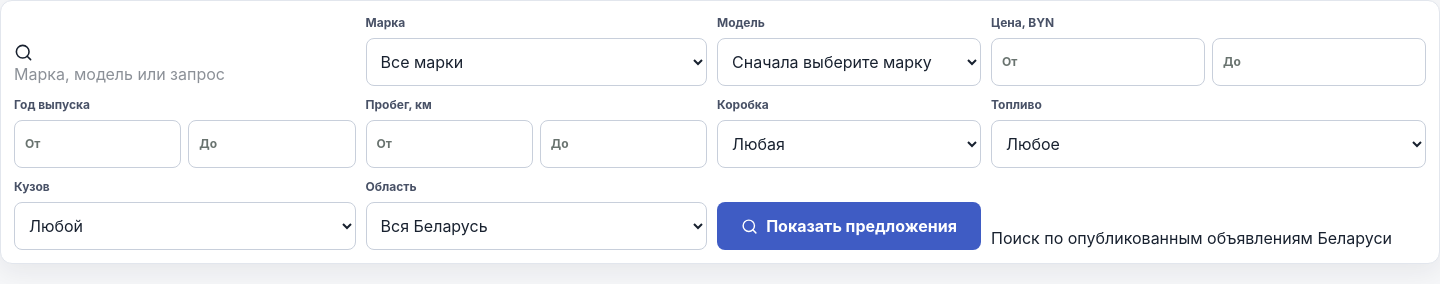
Test: home search › uses Russian plural forms for zero and one result
Type "Volvo" into the search field with placeholder "Марка, модель или запрос".
click(138, 74); type("Volvo")  # box [14,62,262,86]
Wait 300 ms
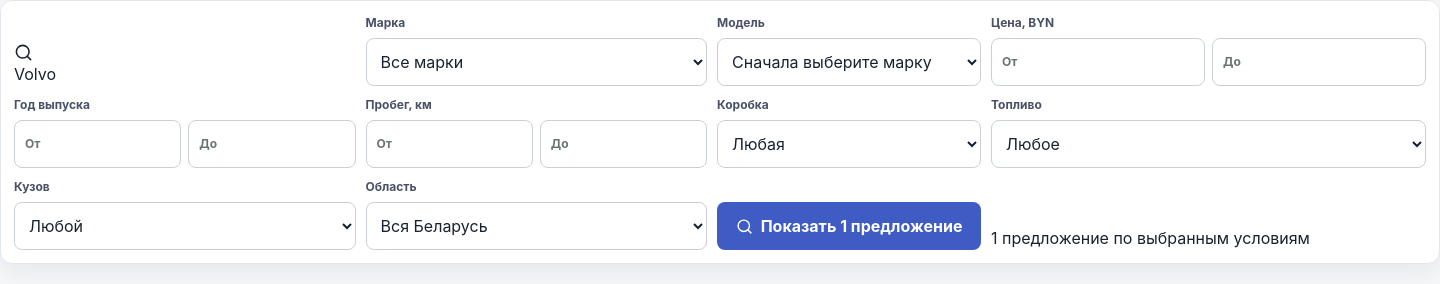
Check: the button with class "home-search-button" reads "Показать 1 предложение", box [717,202,981,250]
Replace the text in the search field with "Fiat" at (138, 74), box [14,62,262,86]
Wait 300 ms
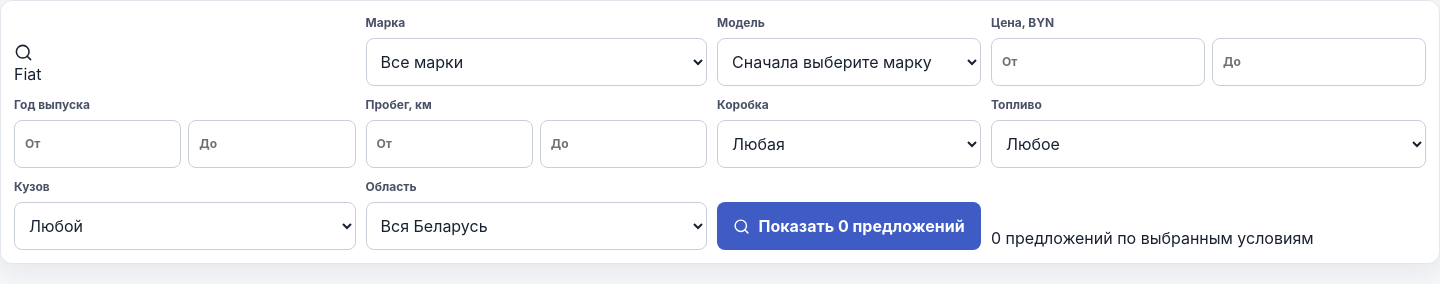
Check: the button with class "home-search-button" reads "Показать 0 предложений", box [717,202,981,250]
